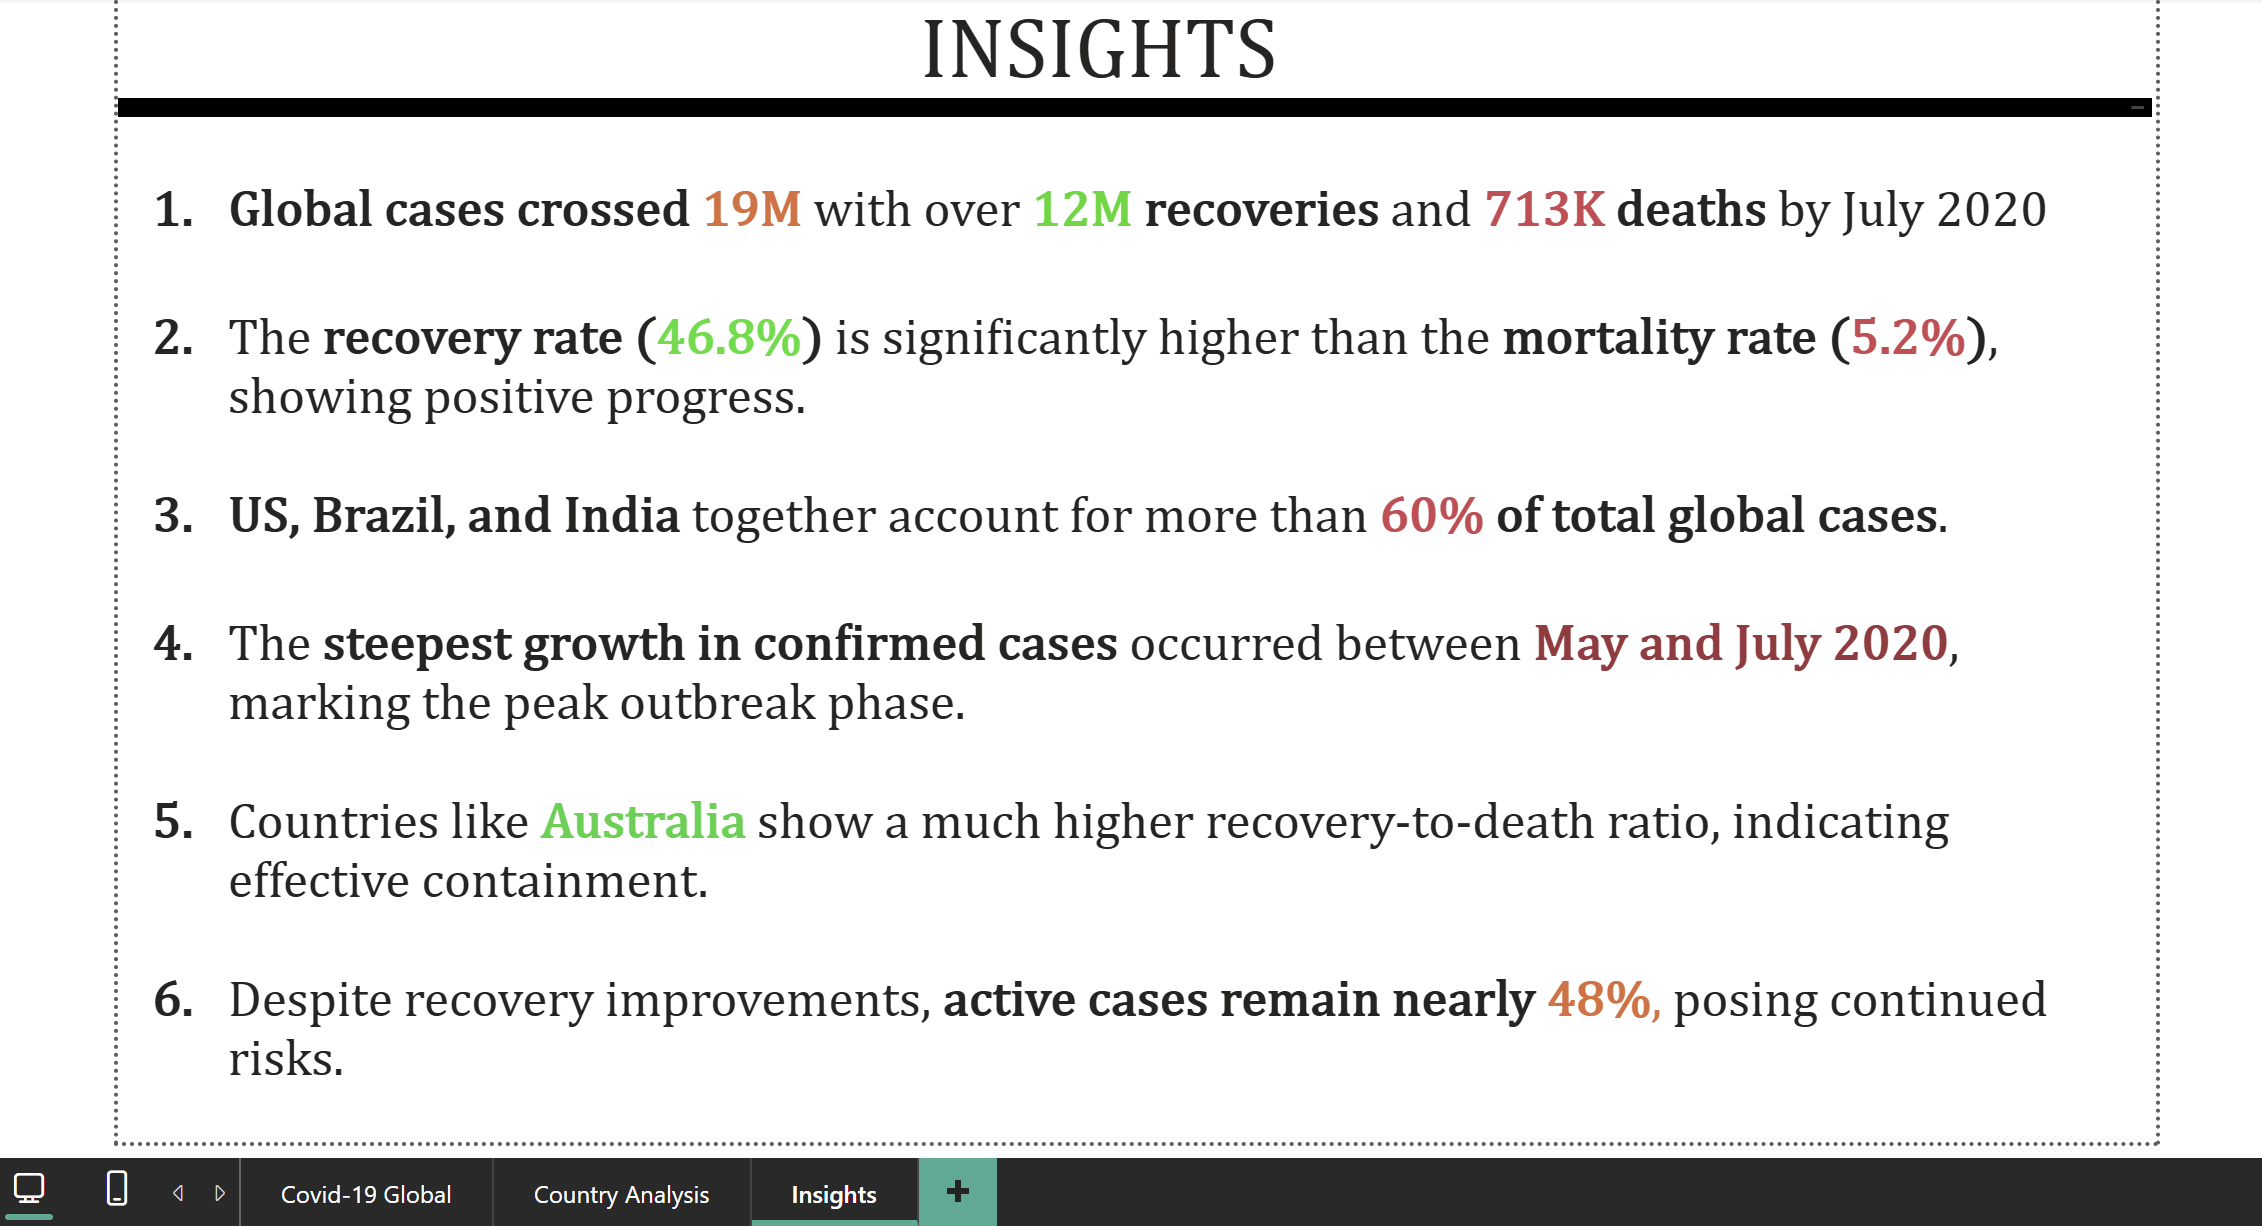

What the dashboard file says about the page in this screenshot:
{"tool":"powerbi","page":{"name":"Insights","canvas":[1280,720],"ordinal":2},"visuals":[{"type":"textbox","box":[368,0,496,96],"z":0},{"type":"textbox","box":[64,112,1216,48],"z":1000},{"type":"textbox","box":[64,192,1216,96],"z":2000},{"type":"textbox","box":[64,304,1216,64],"z":3000},{"type":"textbox","box":[64,384,1216,96],"z":3001},{"type":"textbox","box":[64,496,1216,96],"z":3002},{"type":"textbox","box":[64,608,1184,96],"z":3003},{"type":"textbox","box":[16,112,48,48],"z":3004},{"type":"textbox","box":[16,192,48,48],"z":3005},{"type":"textbox","box":[16,304,48,64],"z":3006},{"type":"textbox","box":[16,384,48,48],"z":3007},{"type":"textbox","box":[16,496,48,48],"z":3008},{"type":"textbox","box":[16,608,48,64],"z":3009},{"type":"textbox","box":[0,64,1278,12],"z":3010}]}

Visuals, with their boxes on the page's 1280x720 design canvas (x1, y1, x2, y2). These are canvas units, not pixel positions in the 2262x1226 screenshot, which may show the page scaled, cropped or inside an application window:
textbox: (left=368, top=0, right=864, bottom=96)
textbox: (left=64, top=112, right=1280, bottom=160)
textbox: (left=64, top=192, right=1280, bottom=288)
textbox: (left=64, top=304, right=1280, bottom=368)
textbox: (left=64, top=384, right=1280, bottom=480)
textbox: (left=64, top=496, right=1280, bottom=592)
textbox: (left=64, top=608, right=1248, bottom=704)
textbox: (left=16, top=112, right=64, bottom=160)
textbox: (left=16, top=192, right=64, bottom=240)
textbox: (left=16, top=304, right=64, bottom=368)
textbox: (left=16, top=384, right=64, bottom=432)
textbox: (left=16, top=496, right=64, bottom=544)
textbox: (left=16, top=608, right=64, bottom=672)
textbox: (left=0, top=64, right=1278, bottom=76)
